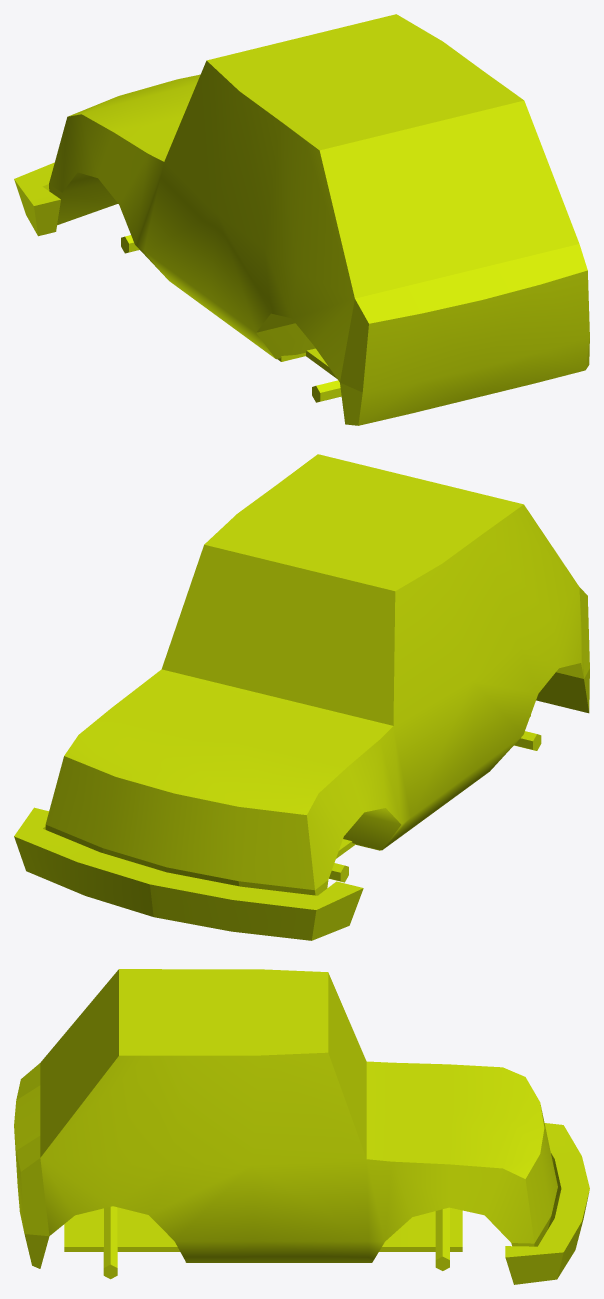
File: P1_Car_Classic_02.fbx
The picture shows the model from 3 angles, top to bottom: view 1: azimuth 30°, elevation 25°; view 2: azimuth 150°, elevation 25°; view 3: azimuth 270°, elevation 25°; orthographic projection. The views are drawn at different scales.
Parts seen in each view (by area): view 1: Car_Classic_02; view 2: Car_Classic_02; view 3: Car_Classic_02.
Part boxes in pixels (bbox=[...]): Car_Classic_02: bbox=[14, 14, 589, 425]; Car_Classic_02: bbox=[14, 454, 589, 940]; Car_Classic_02: bbox=[14, 969, 589, 1284].
Size of the model in its own units: 23.66 by 17.03 by 41.46.
